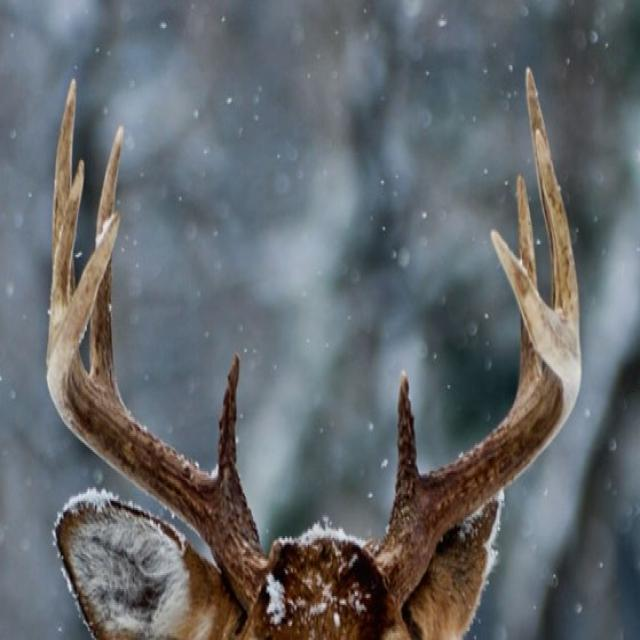L-F: (370, 222, 584, 611)
L-G1: (391, 367, 424, 512)
R-F: (44, 204, 271, 609)
R-G1: (212, 348, 250, 503)
